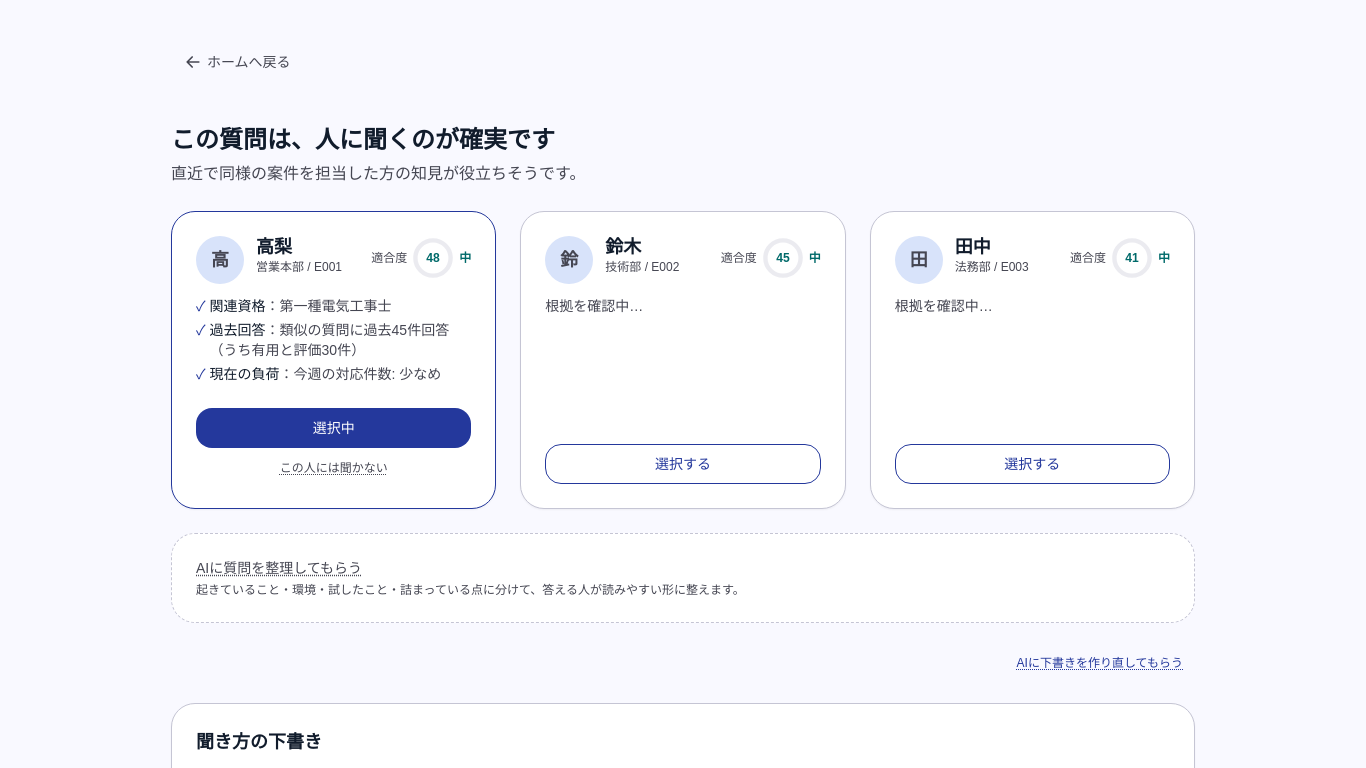
Test case: ResultScreen — main line (person) › surfaces a retryable error when reselecting a candidate fails
Click the button "選択する" below "技術部 / E002" at (683, 464), box [545, 444, 821, 484]
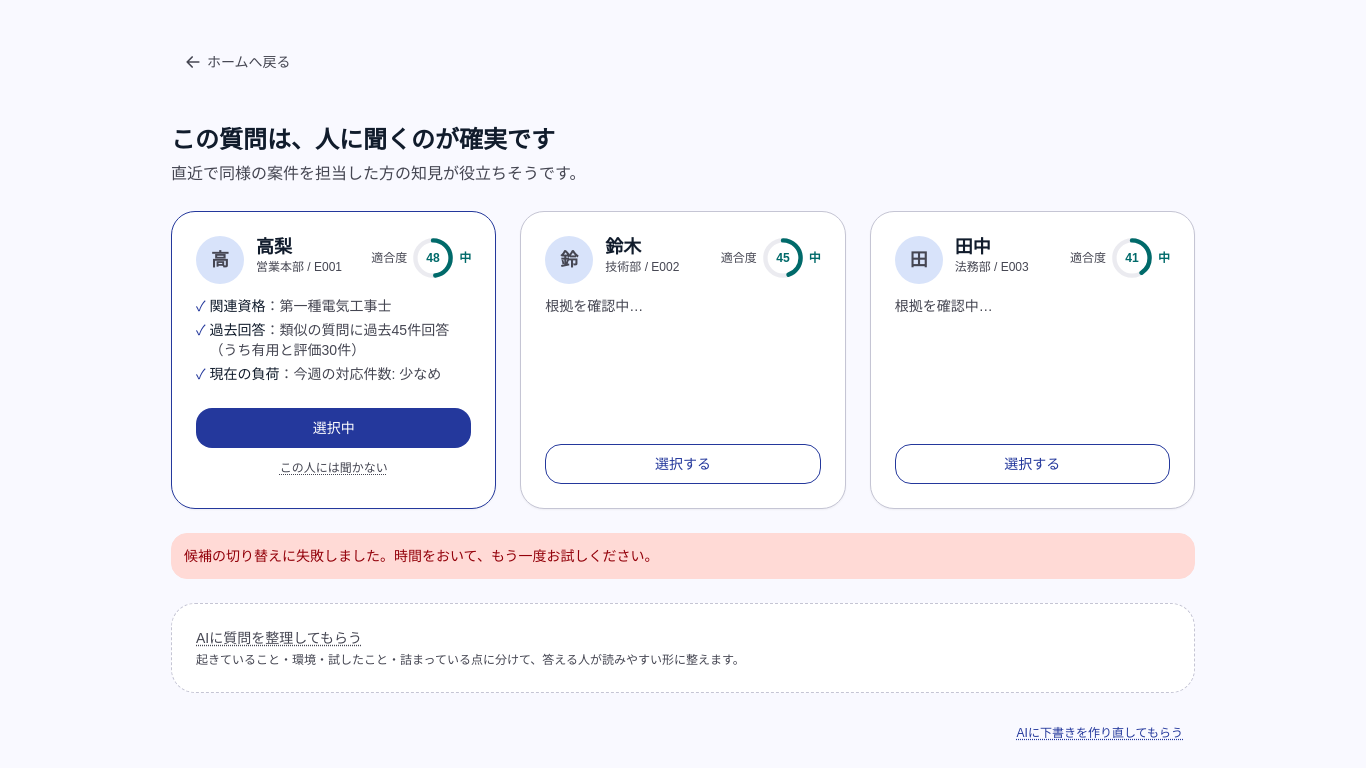
Expected: the button "選択中" is shown, [196, 408, 471, 448]
Expected: the message shows "候補の切り替えに失敗しました", [184, 548, 658, 564]
